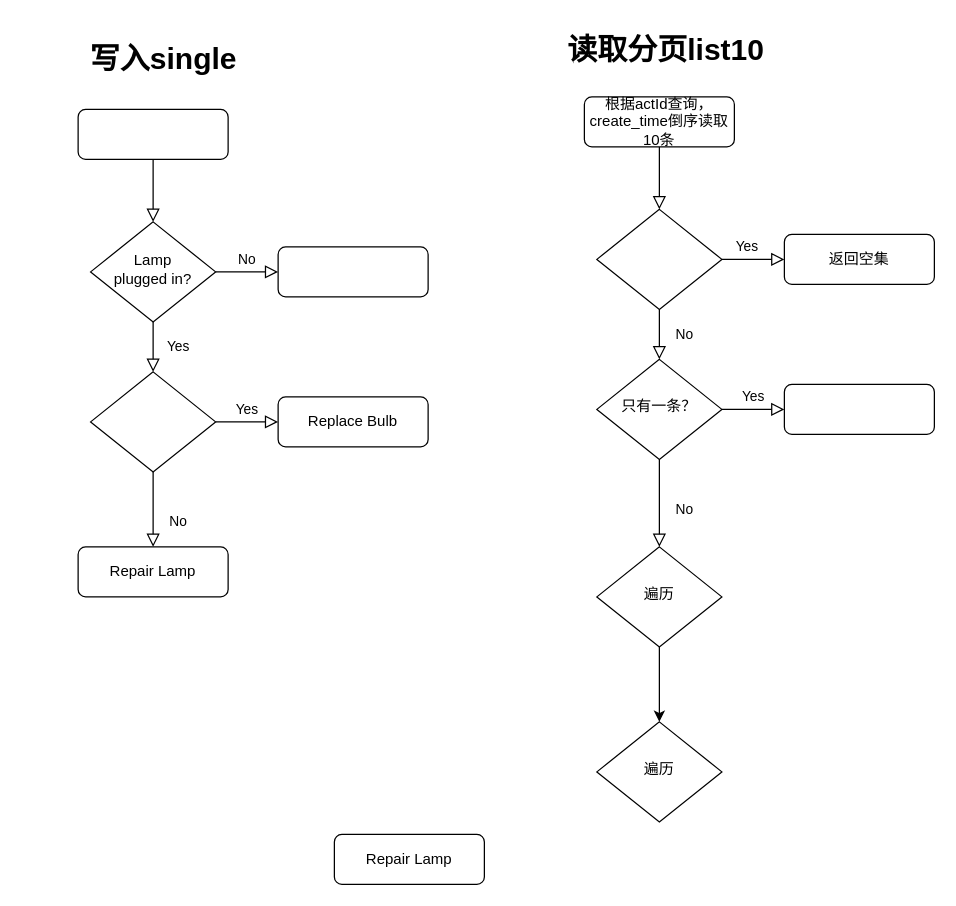
Image size: 956x906. Some labels were removed from this diagram. The centre of each missing label's shape, as x and y in pixels:
Bulb burned out?: (x=152, y=421)
Lamp doesn't work: (x=152, y=133)
list是否为空？: (x=659, y=258)
Plug in lamp: (x=352, y=271)
返回。按显示转译字段名称: (x=858, y=408)
